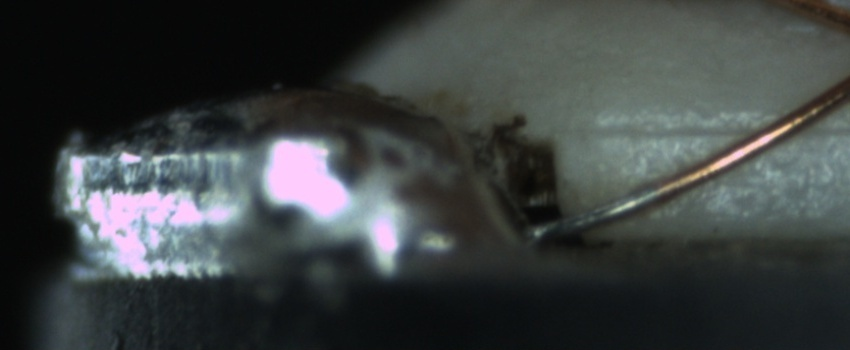DL: (578, 98, 844, 162)
TS: (528, 183, 666, 241)
